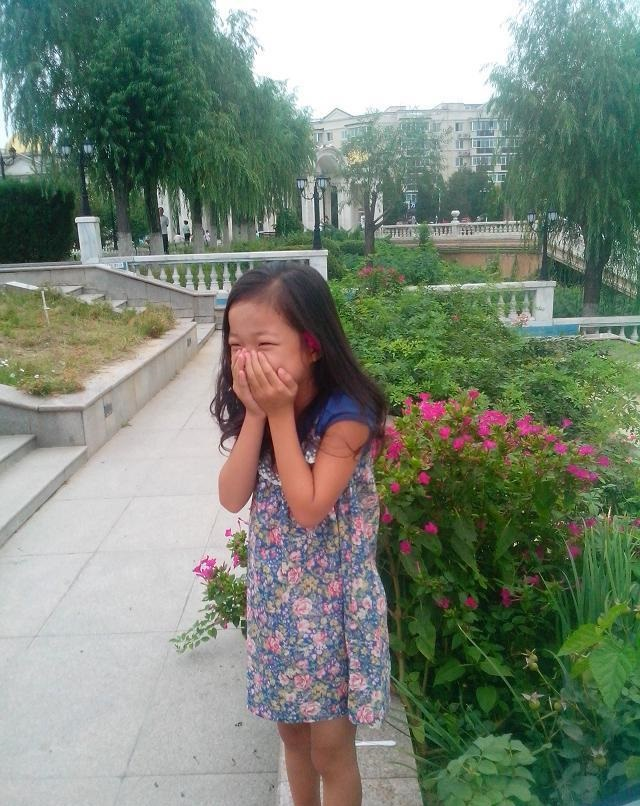face: (226, 298, 300, 408)
